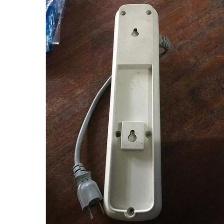three_eye_plug: (101, 1, 166, 223)
